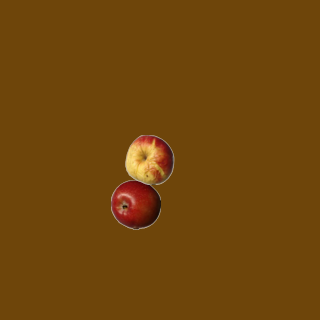Apple Braeburn: (110, 179, 160, 229)
Apple Red Yellow 1: (124, 134, 174, 184)
